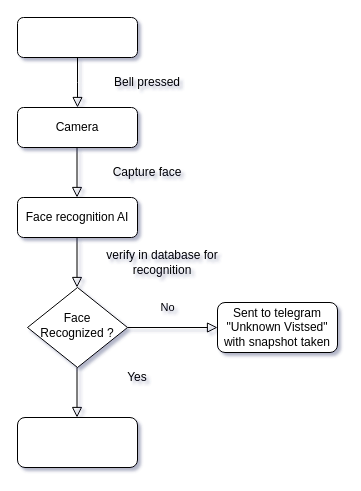
This 361x491 diagram has some shape labels left out. Here are the shapes that lost their labels. From the top down, the centre of each, then its label:
(77,37): Bell
(77,442): Sent to telegram "(Visitor's) Vistsed" with snapshot taken
